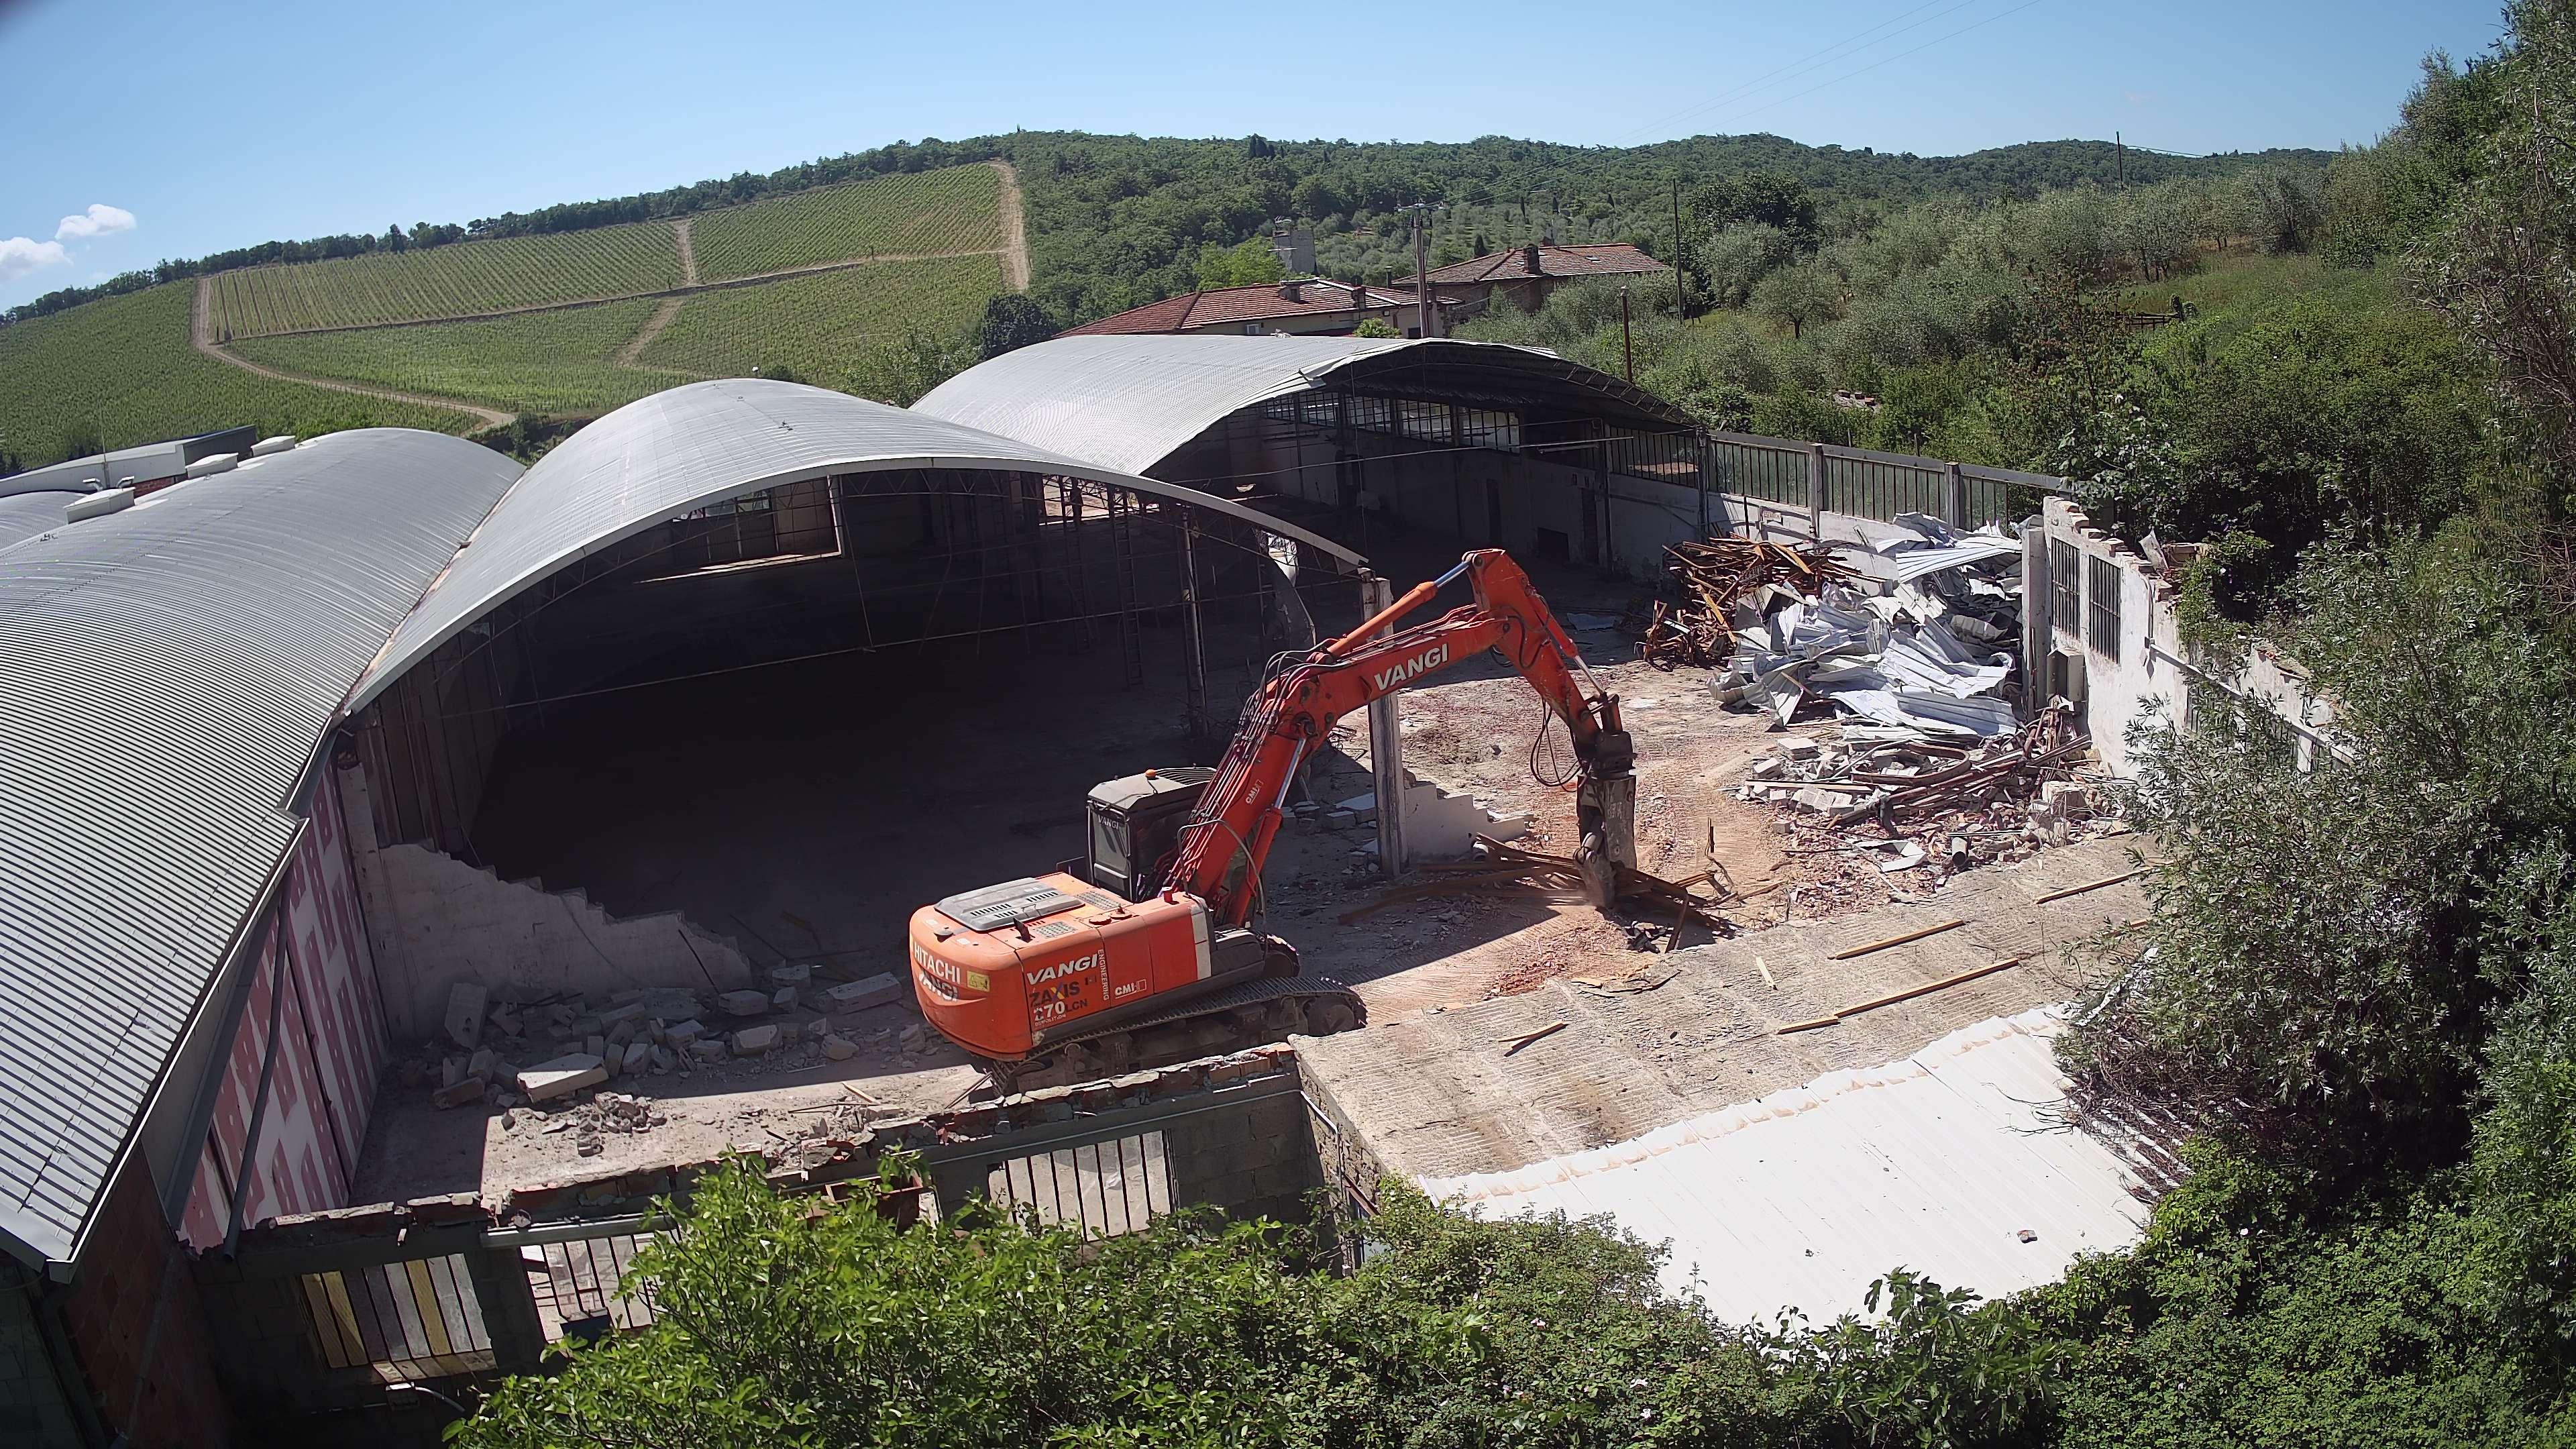excavator: (909, 547, 1644, 1113)
